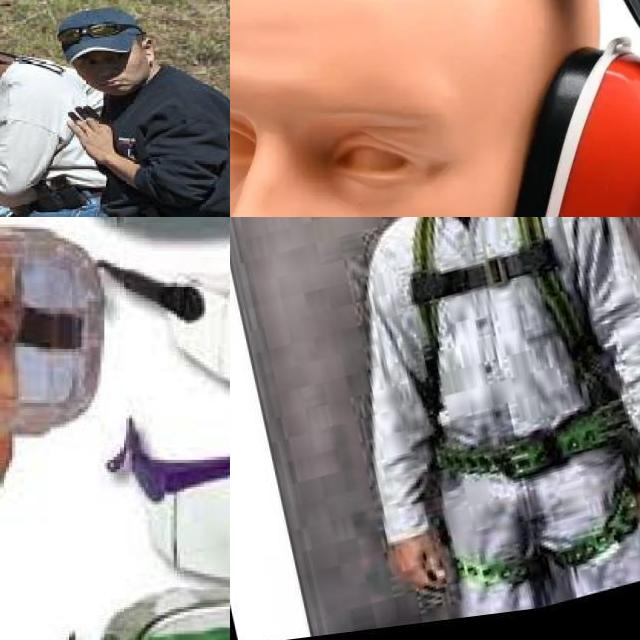Ear-protection: (230, 0, 640, 217)
Harness: (411, 217, 628, 478)
No_Glasses: (230, 68, 489, 191)
face_nomask: (82, 53, 136, 91)
glasses: (64, 0, 230, 217), (0, 6, 108, 217), (0, 231, 104, 434), (54, 19, 148, 36)
hand_noglove: (60, 100, 118, 163)
head_nohelmet: (62, 8, 146, 64)
